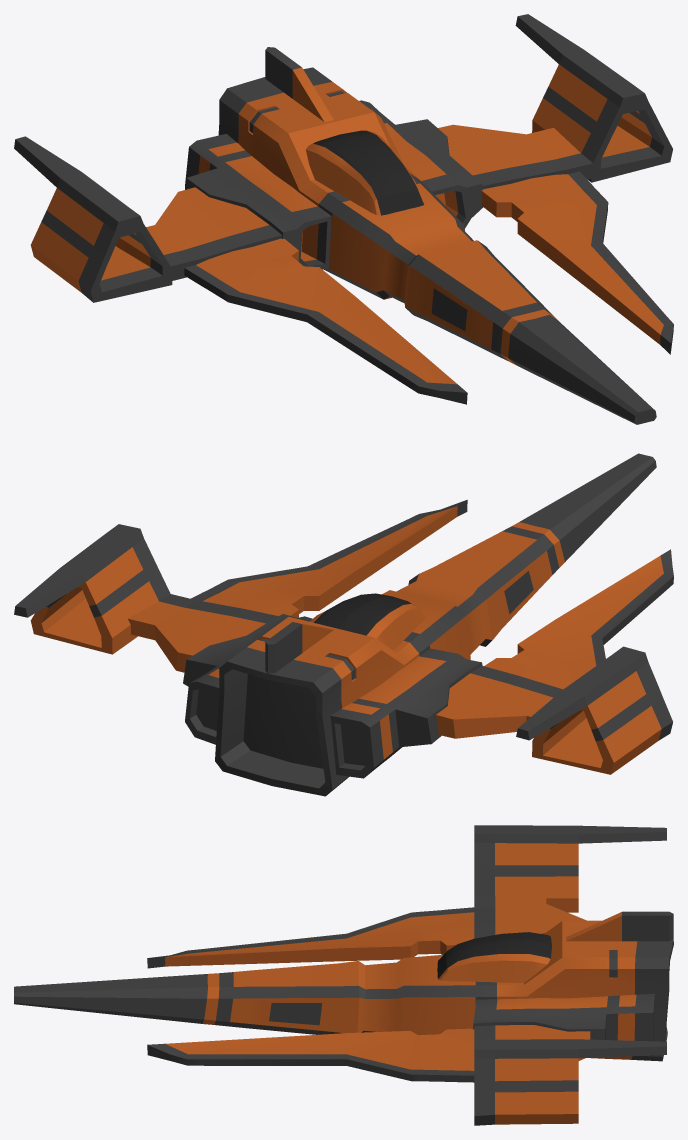
File: Spaceship 3.compressed.glb
3 renders of one model, top to bottom at view 1: azimuth 30°, elevation 25°; view 2: azimuth 150°, elevation 25°; view 3: azimuth 270°, elevation 25°, orthographic. The views are drawn at different scales.
Visible parts, largest first — view 1: Spaceship_RaeTheRedPanda; view 2: Spaceship_RaeTheRedPanda; view 3: Spaceship_RaeTheRedPanda.
Part boxes in pixels (x1=…): Spaceship_RaeTheRedPanda: x1=14, y1=14, x2=673, y2=424; Spaceship_RaeTheRedPanda: x1=14, y1=453, x2=673, y2=796; Spaceship_RaeTheRedPanda: x1=14, y1=825, x2=673, y2=1125.
Bounding box in the file's own units: 9.95 × 2.35 × 11.17.
1 material, 1 textured.
